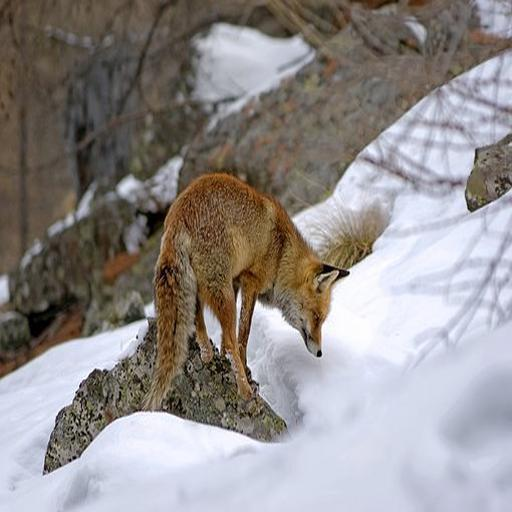Fox: (139, 171, 354, 416)
